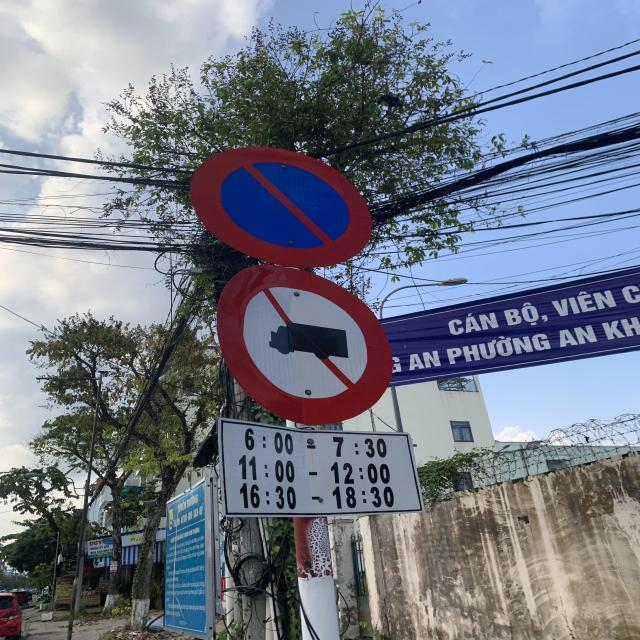Cam_Dau_Xe: (190, 147, 373, 268)
Cam_Xe_Tai: (216, 263, 395, 423)
